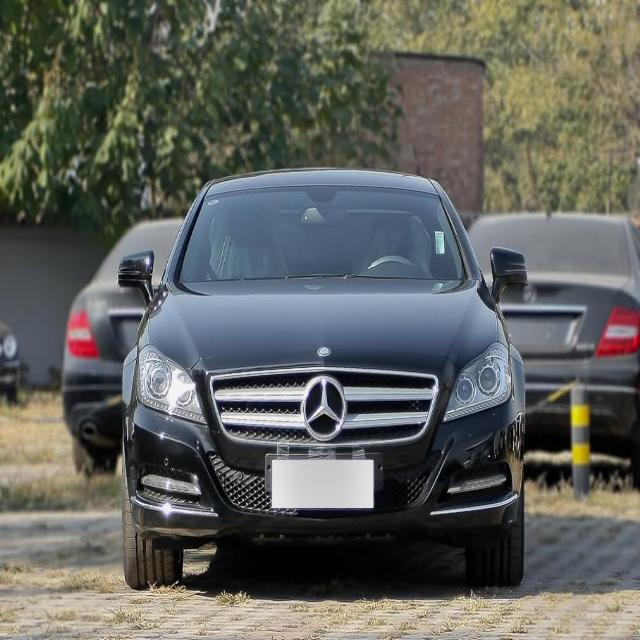front_bumper: (123, 392, 522, 530)
front_glass: (174, 180, 466, 290)
front_left_side_light: (442, 340, 512, 426)
front_left_side_mirror: (489, 243, 530, 304)
front_right_side_light: (135, 340, 209, 428)
front_right_side_mirror: (116, 242, 156, 298)
wheel: (122, 478, 182, 583), (466, 509, 526, 586)
